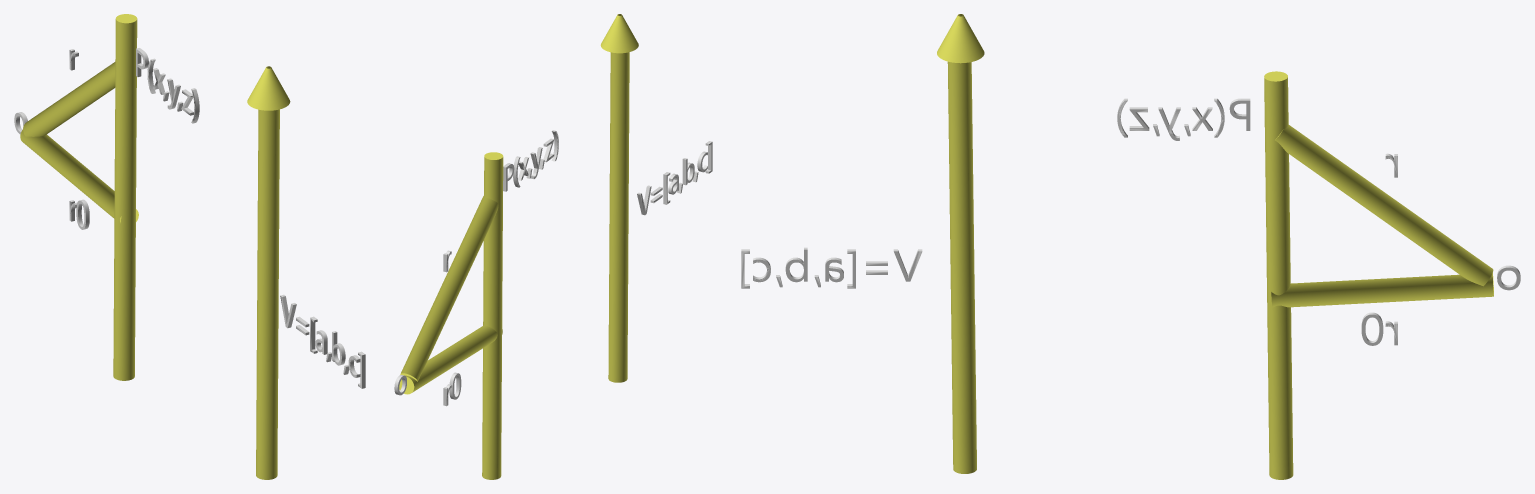
3 renders of one model, left to right at view 1: azimuth 30°, elevation 25°; view 2: azimuth 150°, elevation 25°; view 3: azimuth 270°, elevation 25°, orthographic. The views are drawn at different scales.
Visible parts, largest first — view 1: Cylinder.074, Cylinder.075, Cylinder.072, Cylinder.073, Cone.053; view 2: Cylinder.074, Cylinder.075, Cylinder.073, Cylinder.072, Cone.053; view 3: Cylinder.074, Cylinder.075, Cylinder.073, Cylinder.072, Cone.053.
Boxes of the visible parts, box(x1,y1,x2,y2) form: Cylinder.074: box(256, 109, 279, 479); Cylinder.075: box(113, 14, 137, 380); Cylinder.072: box(20, 129, 138, 222); Cylinder.073: box(23, 62, 115, 136); Cone.053: box(247, 66, 290, 110); Cylinder.074: box(608, 52, 629, 382); Cylinder.075: box(482, 152, 503, 479); Cylinder.073: box(400, 196, 498, 381); Cylinder.072: box(399, 325, 502, 394); Cone.053: box(600, 14, 638, 53); Cylinder.074: box(947, 61, 976, 473); Cylinder.075: box(1264, 71, 1293, 479); Cylinder.073: box(1275, 125, 1493, 286); Cylinder.072: box(1271, 273, 1493, 307); Cone.053: box(937, 14, 984, 63).
Bounding box in the file's own units: 0.02 × 0.2126 × 0.3266.
